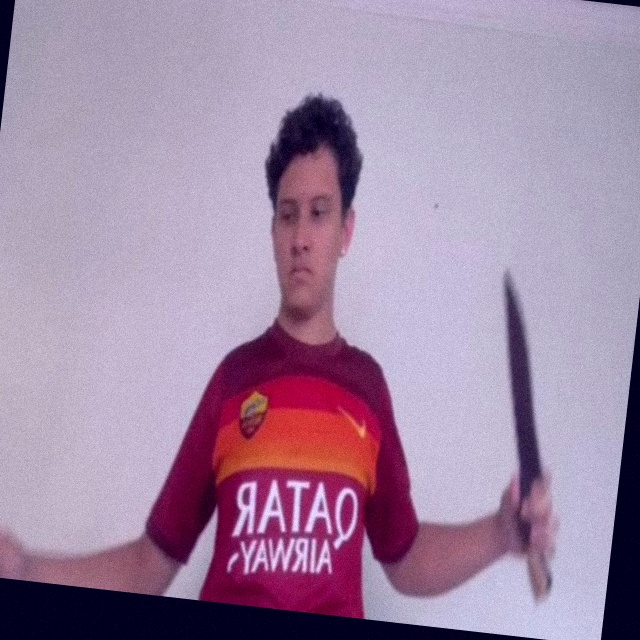Sharp-Object: (480, 266, 565, 477)
